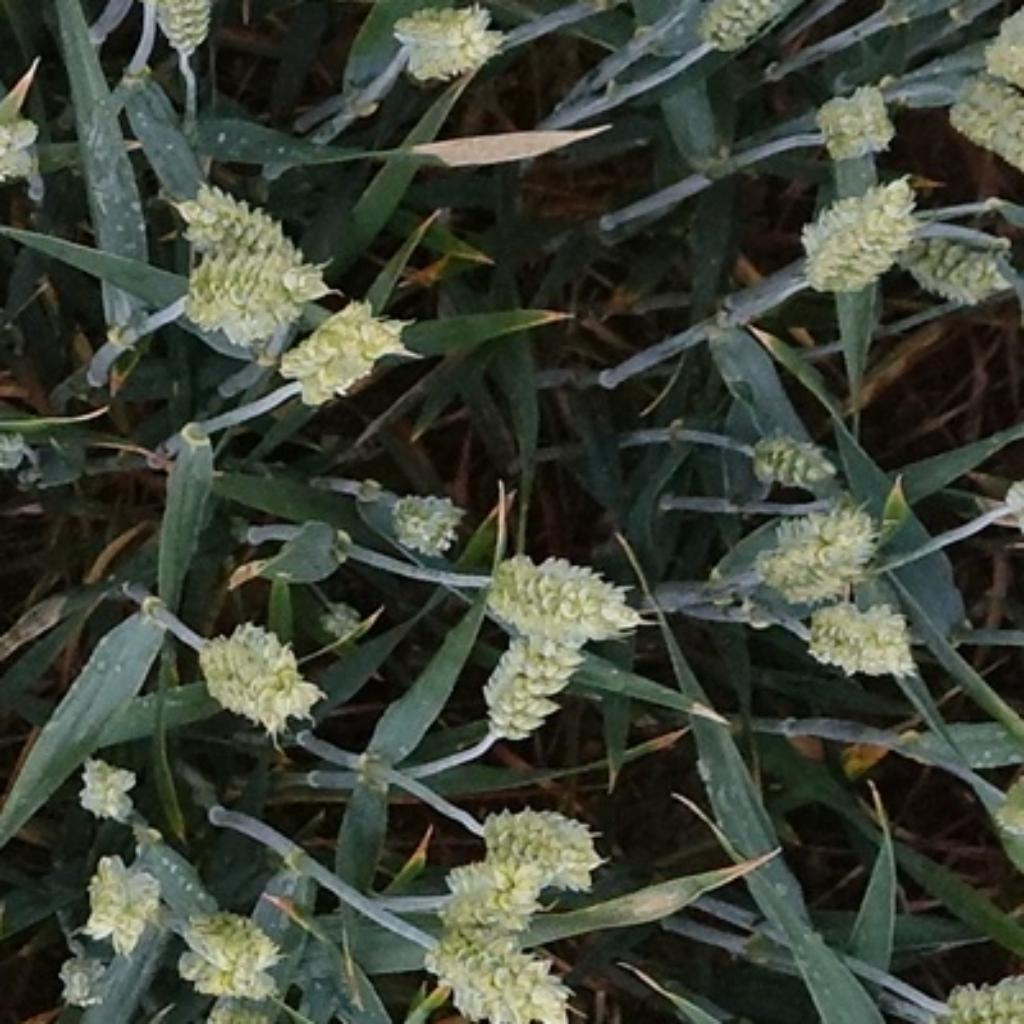0-0: (422, 908, 587, 1022), (276, 289, 410, 424), (468, 604, 593, 748), (166, 240, 335, 345), (473, 537, 642, 642), (787, 171, 924, 298), (195, 624, 329, 747), (748, 501, 887, 614), (889, 222, 1023, 322), (167, 905, 293, 1009), (465, 791, 606, 883), (171, 186, 307, 281), (386, 0, 512, 98), (795, 603, 923, 690), (430, 849, 558, 934), (81, 844, 171, 963), (806, 71, 902, 170), (942, 79, 1024, 174), (377, 486, 471, 565), (746, 430, 848, 501), (69, 747, 151, 830), (693, 0, 803, 61), (144, 3, 223, 65), (310, 585, 377, 657), (40, 949, 112, 1011), (0, 94, 46, 191), (979, 2, 1024, 92), (0, 417, 48, 477)
